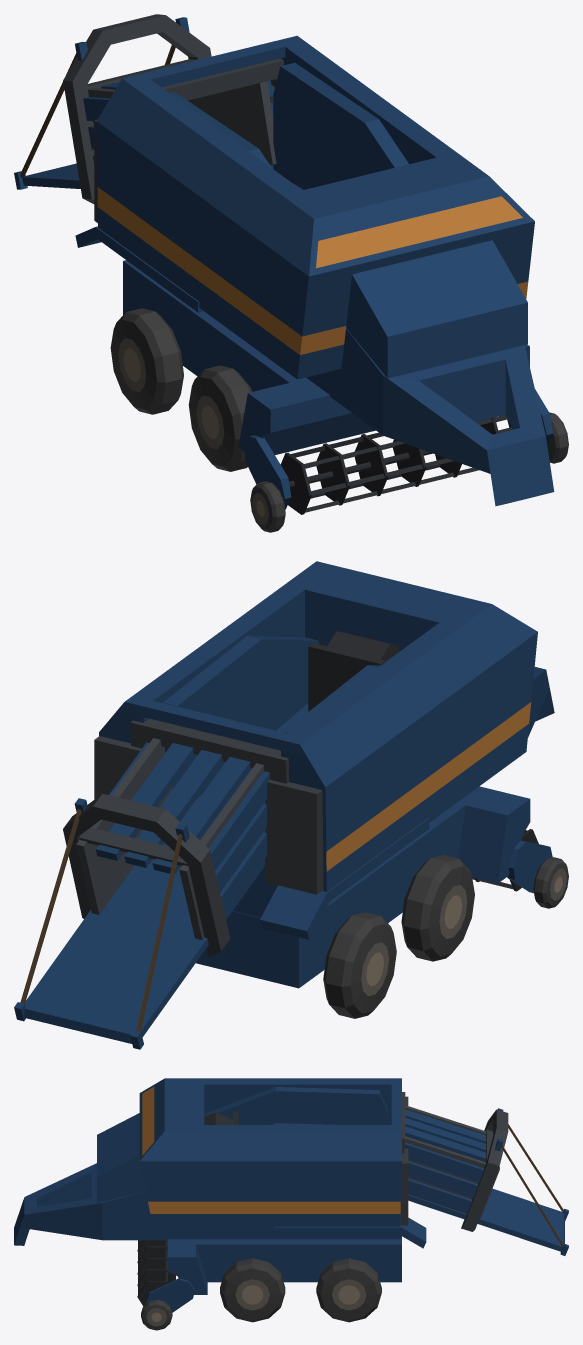
Rendered from HayBaler_2.fbx.
3 views of the same model, one above another, from view 1: azimuth 30°, elevation 25°; view 2: azimuth 150°, elevation 25°; view 3: azimuth 270°, elevation 25° (orthographic). The views are drawn at different scales.
Visible parts, largest first — view 1: HayBaler_2, HayBalerTools_2, HayBalerFrontWheels_2, HayBalerBackWheels_2; view 2: HayBaler_2, HayBalerFrontWheels_2, HayBalerBackWheels_2; view 3: HayBaler_2, HayBalerFrontWheels_2, HayBalerBackWheels_2, HayBalerTools_2.
Boxes of the visible parts, bbox=[...] form: HayBaler_2: bbox=[14, 14, 554, 509]; HayBalerTools_2: bbox=[280, 415, 512, 514]; HayBalerFrontWheels_2: bbox=[188, 365, 568, 532]; HayBalerBackWheels_2: bbox=[110, 308, 183, 414]; HayBaler_2: bbox=[14, 561, 554, 1049]; HayBalerFrontWheels_2: bbox=[401, 855, 568, 961]; HayBalerBackWheels_2: bbox=[323, 912, 396, 1018]; HayBaler_2: bbox=[14, 1078, 568, 1312]; HayBalerFrontWheels_2: bbox=[141, 1258, 285, 1330]; HayBalerBackWheels_2: bbox=[316, 1258, 381, 1322]; HayBalerTools_2: bbox=[137, 1240, 175, 1306].
Bounding box in the file's own units: 222 × 211 × 581.
